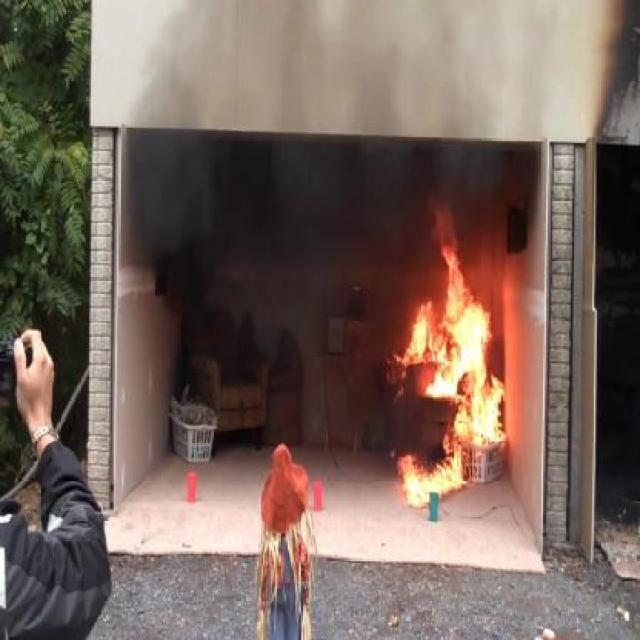fire: (389, 218, 506, 498)
smoke: (136, 111, 372, 337)
